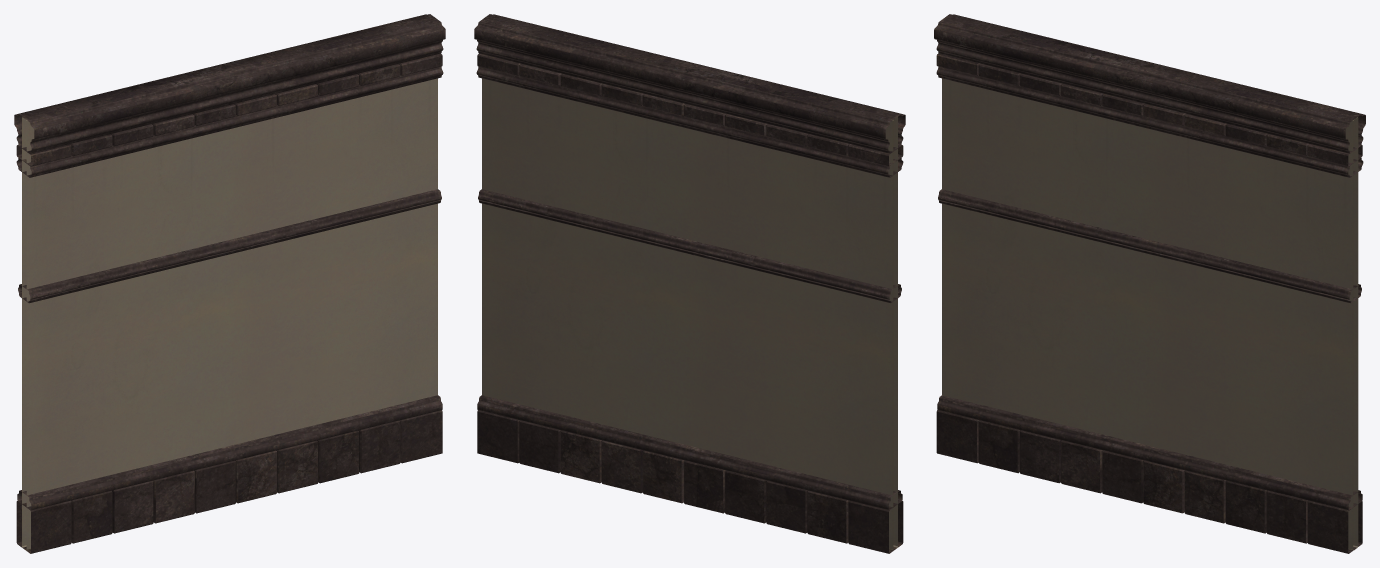
File: SK2 WALL2 INT.fbx
3 renders of one model, left to right at view 1: azimuth 30°, elevation 25°; view 2: azimuth 150°, elevation 25°; view 3: azimuth 330°, elevation 25°, orthographic.
Visible parts, largest first — view 1: SK2 WALL2 INT.012; view 2: SK2 WALL2 INT.012; view 3: SK2 WALL2 INT.012.
Boxes of the visible parts, left/top/right/bottom form: SK2 WALL2 INT.012: left=14, top=14, right=445, bottom=553; SK2 WALL2 INT.012: left=474, top=14, right=905, bottom=553; SK2 WALL2 INT.012: left=934, top=14, right=1365, bottom=553.
Bounding box in the file's own units: 400 × 400 × 33.96.
